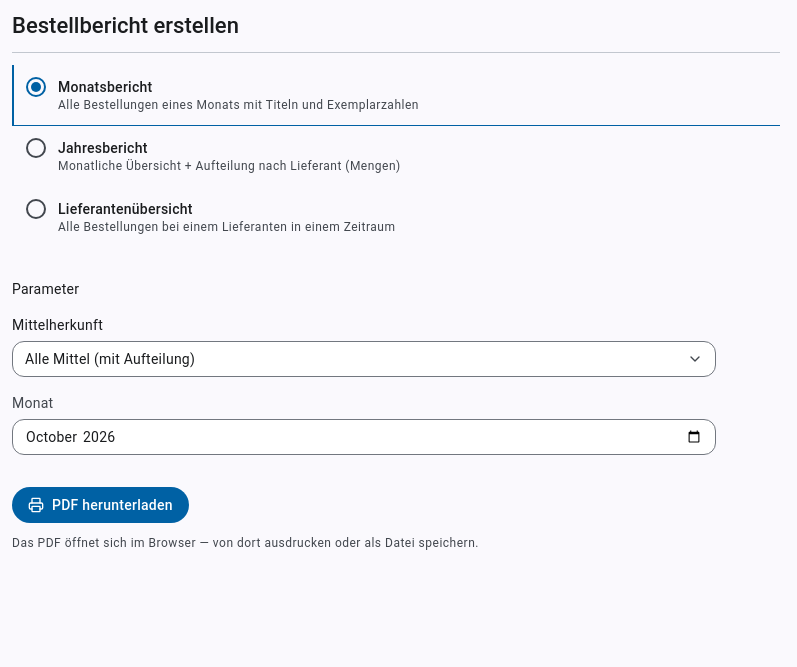
Bestellberichte: Zeitraum der Lieferantenabrechnung › nennt „Von nach Bis" am Feld „Bis" und sperrt den Download
This screenshot has width=797, height=667.
Click the radio button labelled "Lieferanten" at (36, 209), box [16,189,56,229]
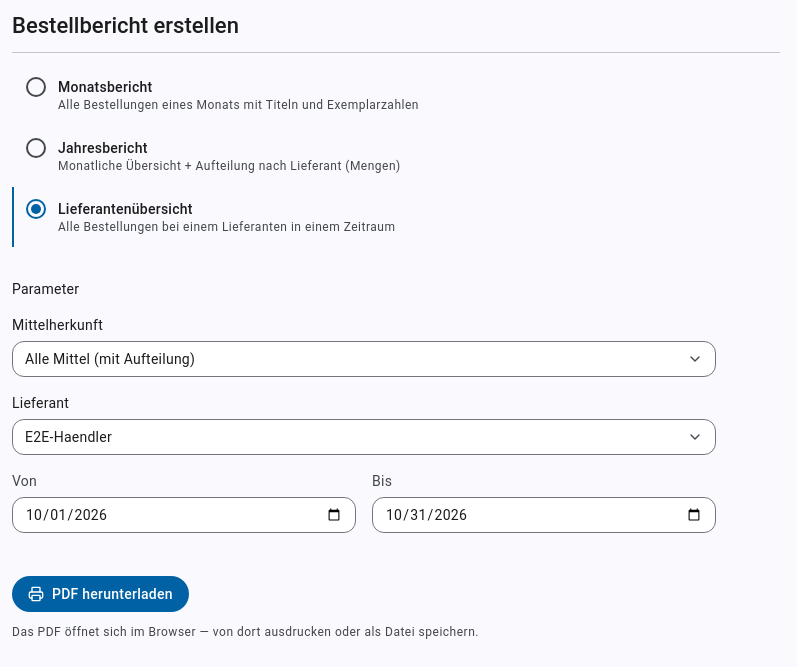
Type "2026-09-30" into the date field labelled "Von" at (184, 515), box [12,497,356,533]
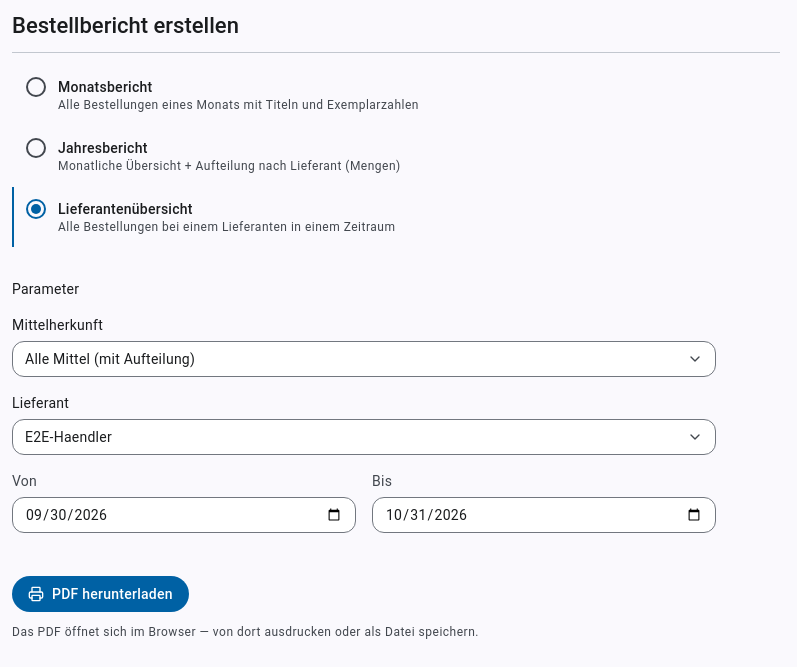
Type "2026-09-01" into the date field labelled "Bis" at (544, 515), box [372,497,716,533]
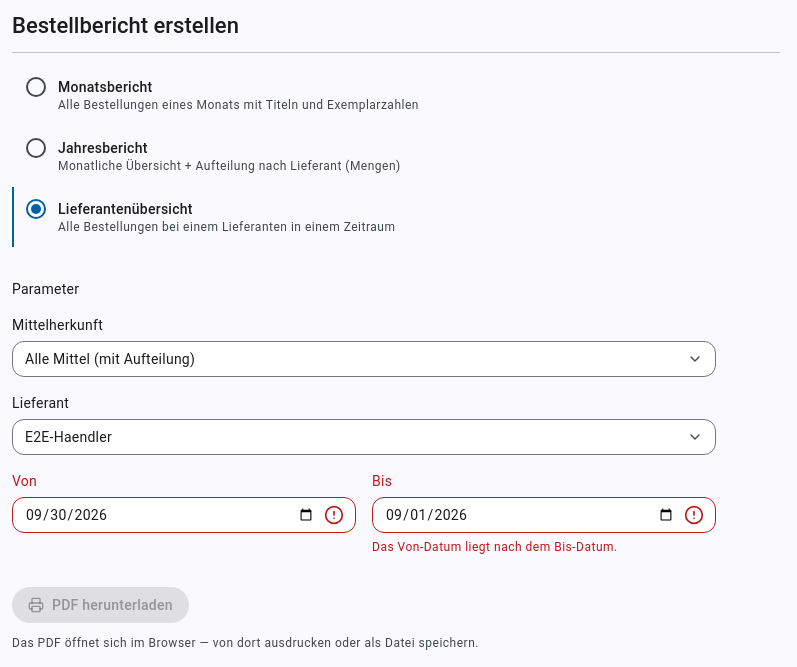
Expected: the text "Das Von-Datum liegt nach dem Bis-Datum." is shown, [372,540,618,554]
